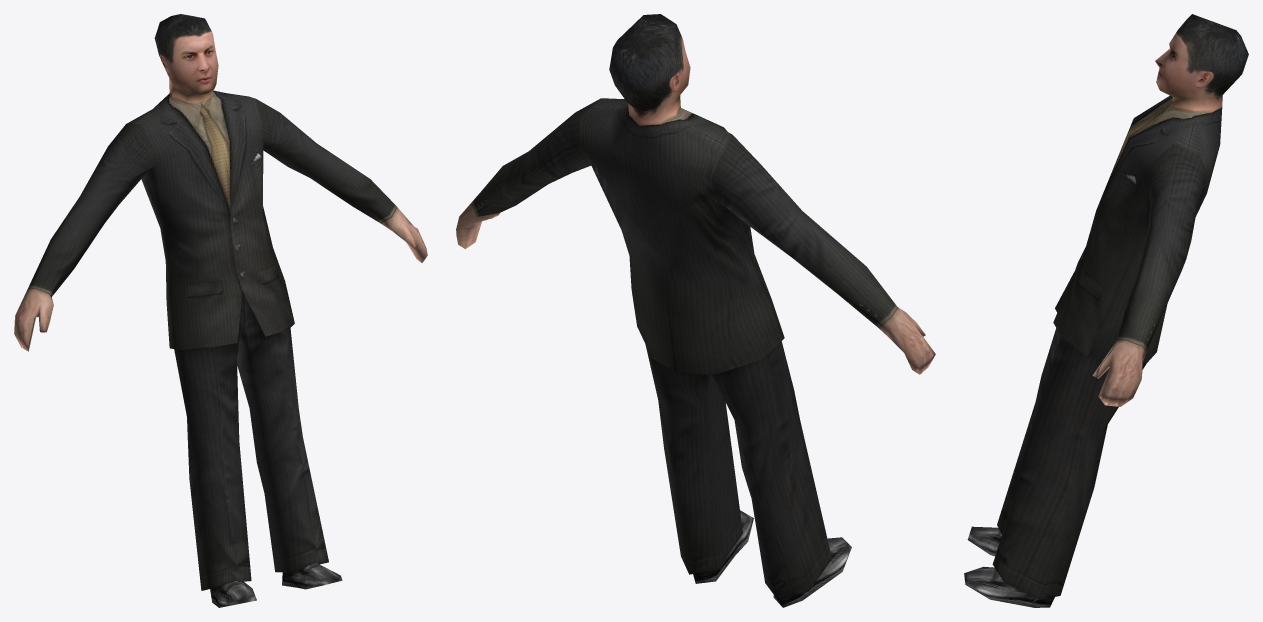
Rendered from Man01_2.glb.
3 renders of one model, left to right at view 1: azimuth 30°, elevation 25°; view 2: azimuth 150°, elevation 25°; view 3: azimuth 270°, elevation 25°, orthographic. The views are drawn at different scales.
Visible parts, largest first — view 1: business02_m_lowpoly_网格; view 2: business02_m_lowpoly_网格; view 3: business02_m_lowpoly_网格.
Part boxes in pixels (box(x1,y1,x2,y2)): business02_m_lowpoly_网格: box(14, 14, 427, 607); business02_m_lowpoly_网格: box(456, 14, 935, 607); business02_m_lowpoly_网格: box(964, 14, 1248, 607).
Size of the model in its own units: 1.4 by 1.77 by 0.8025.
Materials: 1 (1 with a texture image).
